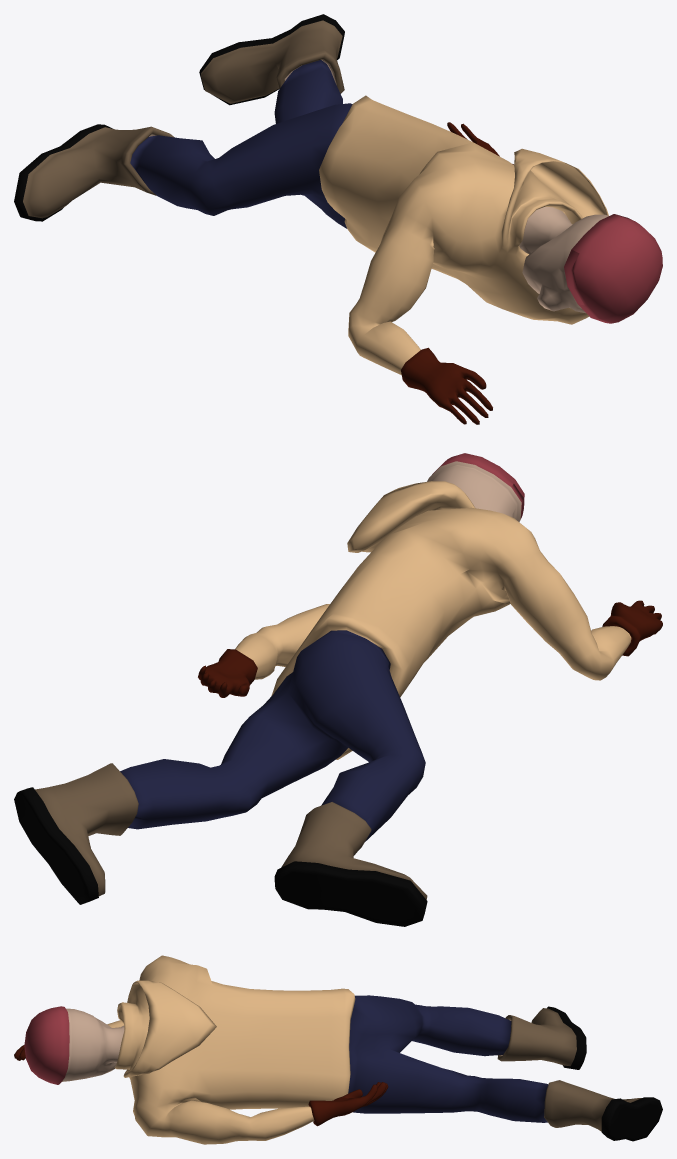
Rendered from victim.dae.
3 views of the same model, one above another, from view 1: azimuth 30°, elevation 25°; view 2: azimuth 150°, elevation 25°; view 3: azimuth 270°, elevation 25° (orthographic). The views are drawn at different scales.
Parts seen in each view (by area): view 1: lost_victim_004; view 2: lost_victim_004; view 3: lost_victim_004.
Part boxes in pixels (left/top/right/bottom): lost_victim_004: left=14, top=14, right=662, bottom=424; lost_victim_004: left=14, top=453, right=662, bottom=926; lost_victim_004: left=14, top=955, right=662, bottom=1144.
Size of the model in its own units: 0.9003 by 1.78 by 0.4522.
